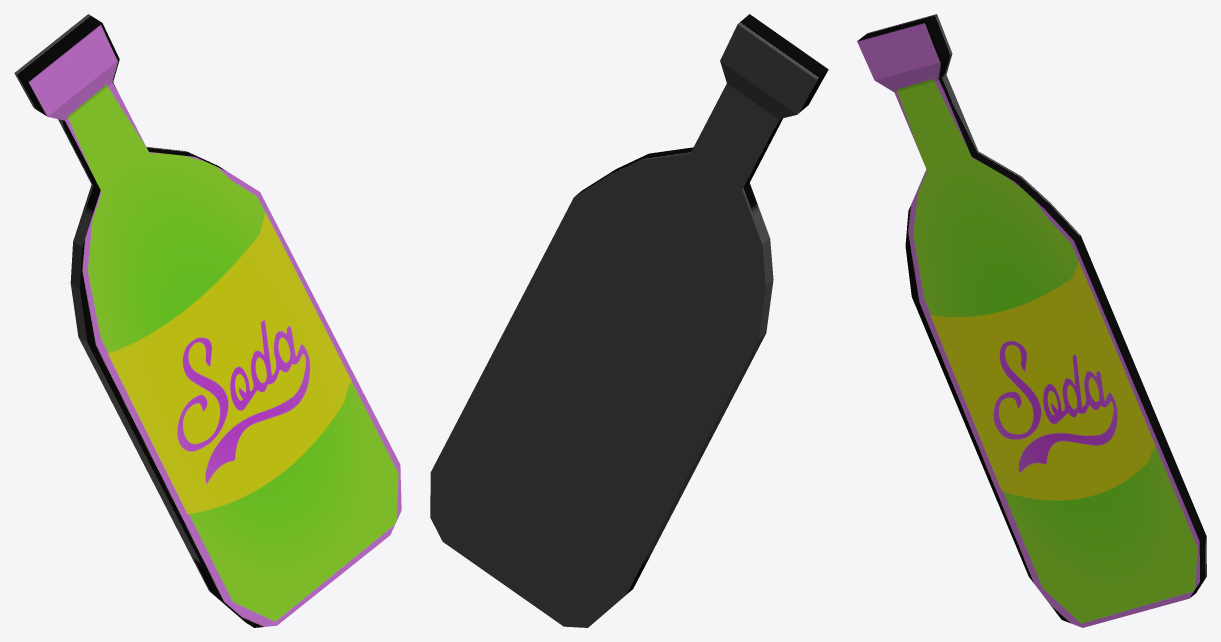
File: placaFlutuanteG2.obj
3 renders of one model, left to right at view 1: azimuth 30°, elevation 25°; view 2: azimuth 150°, elevation 25°; view 3: azimuth 330°, elevation 25°, orthographic. The views are drawn at different scales.
Parts seen in each view (by area): view 1: Cube.001_Cube.007; view 2: Cube.001_Cube.007; view 3: Cube.001_Cube.007.
Part boxes in pixels (x1,y1,x2,y2): Cube.001_Cube.007: [14, 14, 401, 627]; Cube.001_Cube.007: [430, 14, 828, 627]; Cube.001_Cube.007: [857, 14, 1206, 627].
Bounding box in the file's own units: 20.39 × 32.94 × 1.6.
